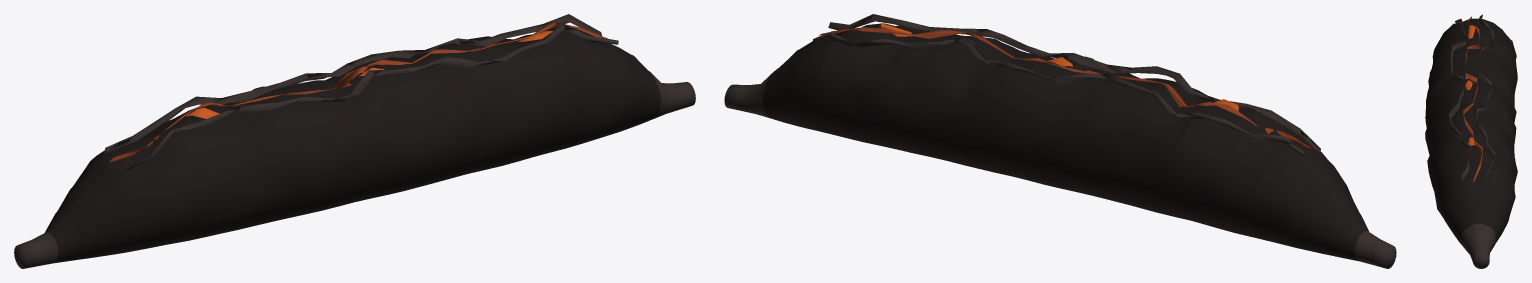
File: sausage_burnt.glb
The picture shows the model from 3 angles, left to right: view 1: azimuth 30°, elevation 25°; view 2: azimuth 150°, elevation 25°; view 3: azimuth 270°, elevation 25°; orthographic projection. The views are drawn at different scales.
Visible parts, largest first — view 1: SausageBurnt; view 2: SausageBurnt; view 3: SausageBurnt.
Part boxes in pixels (left/top/right/bottom): SausageBurnt: left=14, top=14, right=695, bottom=268; SausageBurnt: left=724, top=14, right=1396, bottom=268; SausageBurnt: left=1425, top=14, right=1517, bottom=268.
Size of the model in its own units: 4.5 by 0.8 by 0.8.
